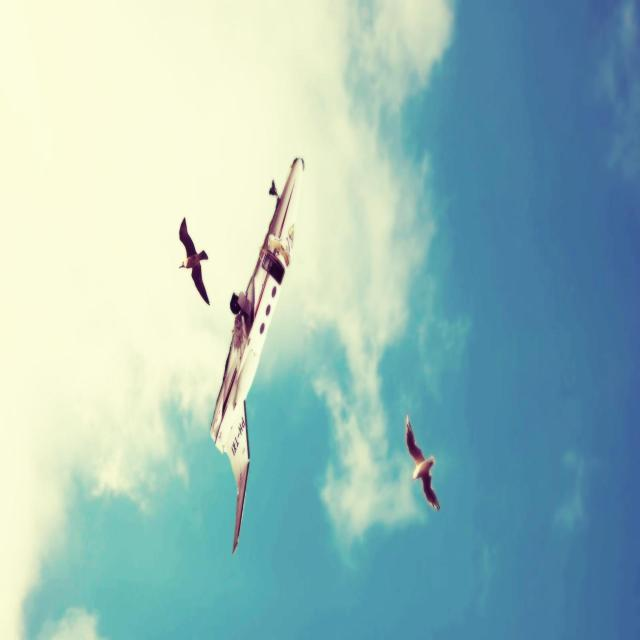airplane: (209, 155, 305, 554)
